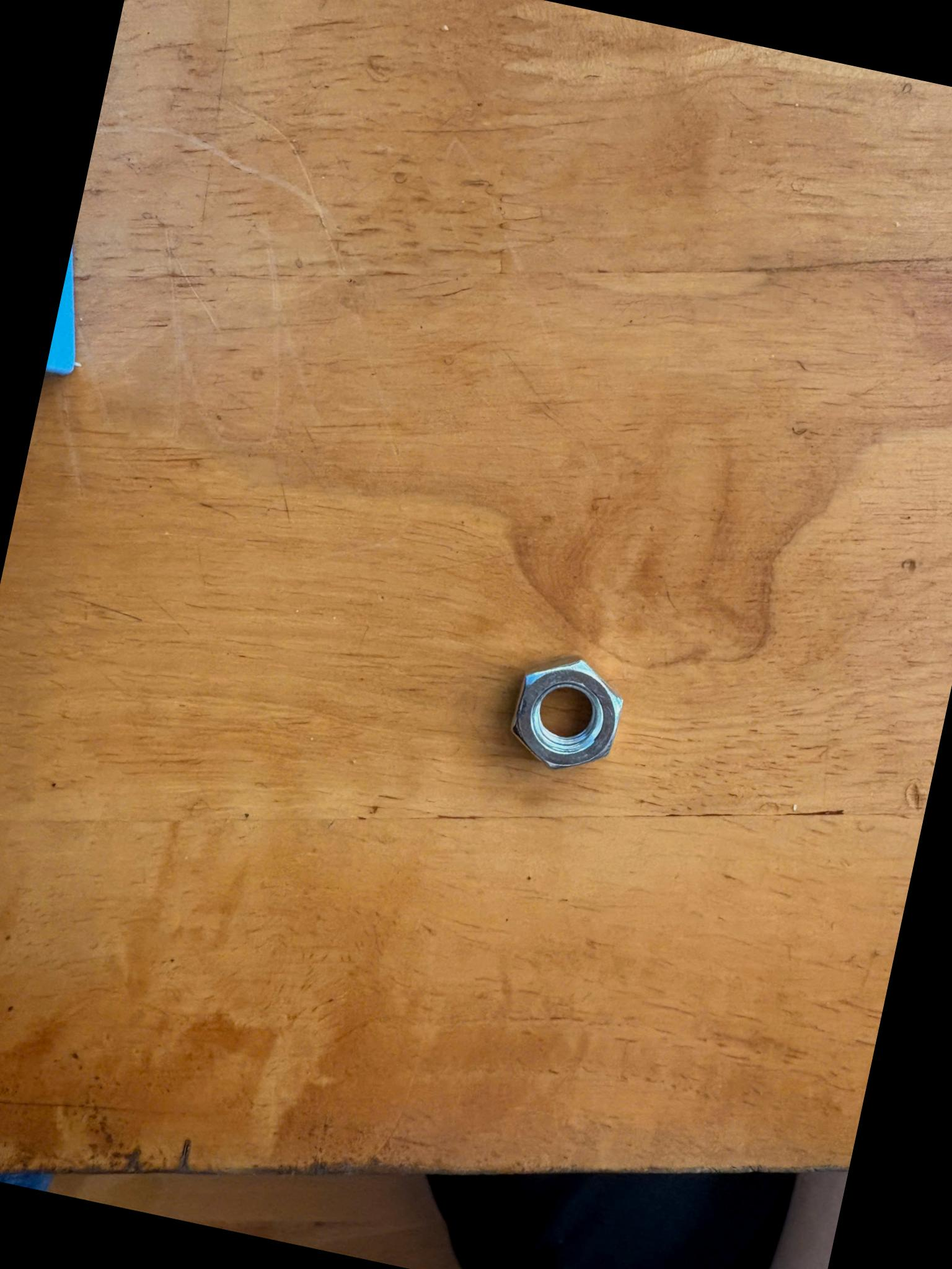nut: (492, 635, 643, 798)
